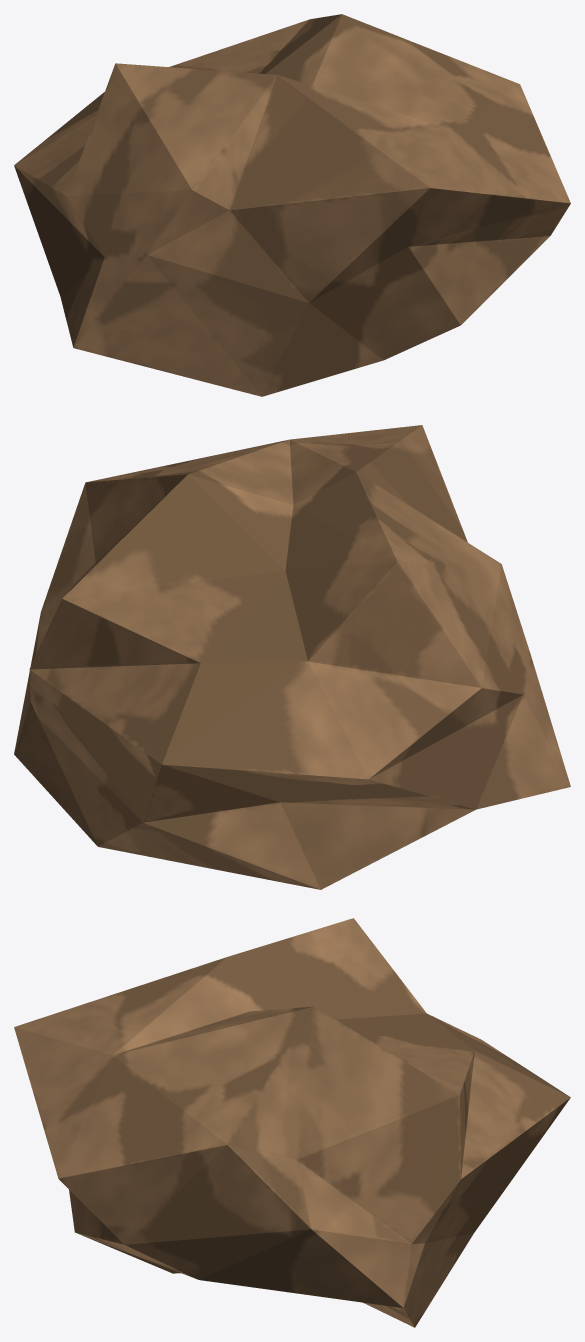
The model's file is copper_ore.glb.
3 views of the same model, one above another, from view 1: azimuth 30°, elevation 25°; view 2: azimuth 150°, elevation 25°; view 3: azimuth 270°, elevation 25° (orthographic). The views are drawn at different scales.
Visible parts, largest first — view 1: stone_1; view 2: stone_1; view 3: stone_1.
Part boxes in pixels (x1,y1,x2,y2): stone_1: (14, 14, 570, 396); stone_1: (14, 425, 570, 889); stone_1: (14, 918, 570, 1327).
Bounding box in the file's own units: 0.3195 × 0.2107 × 0.3473.
Materials: 1 (1 with a texture image).
